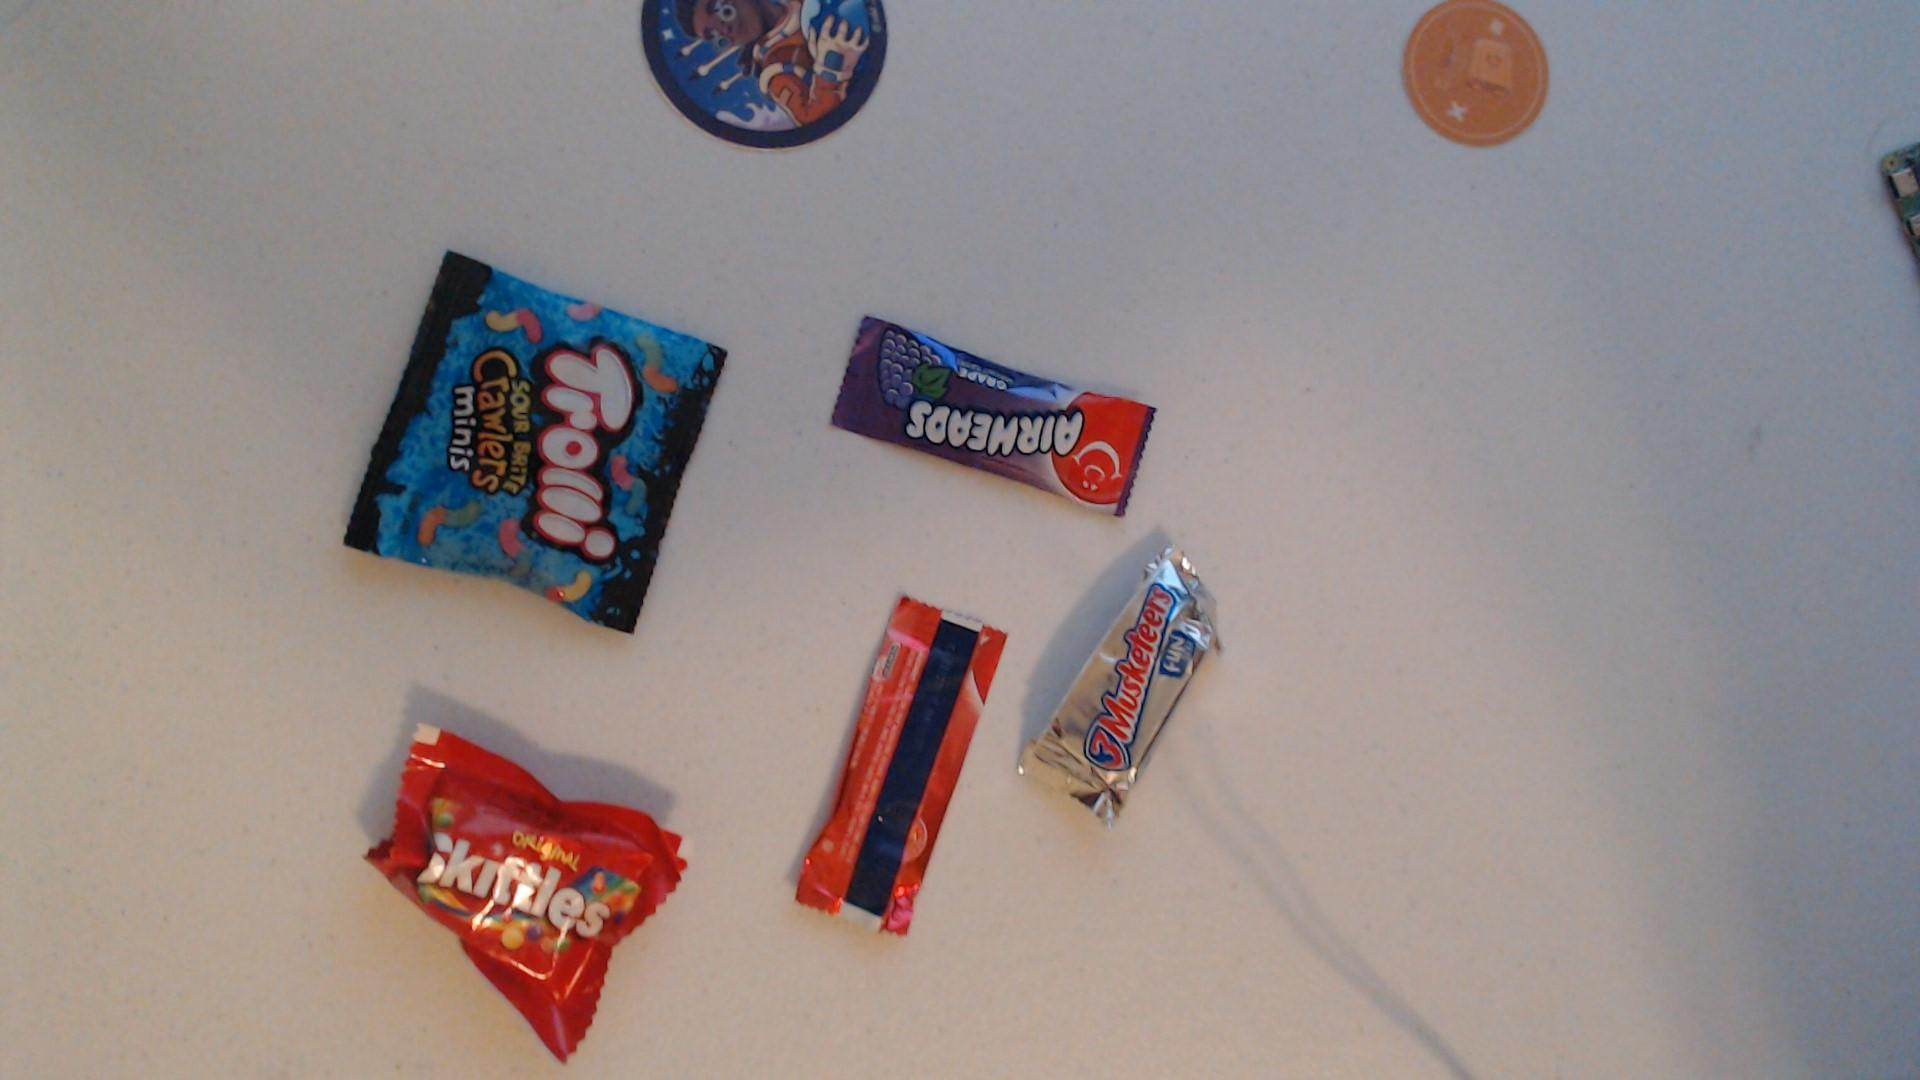Trolli: (332, 244, 758, 642)
airheads: (785, 589, 1011, 959), (815, 303, 1167, 531)
musketeers: (1023, 543, 1229, 829)
skittles: (359, 712, 702, 1069)
